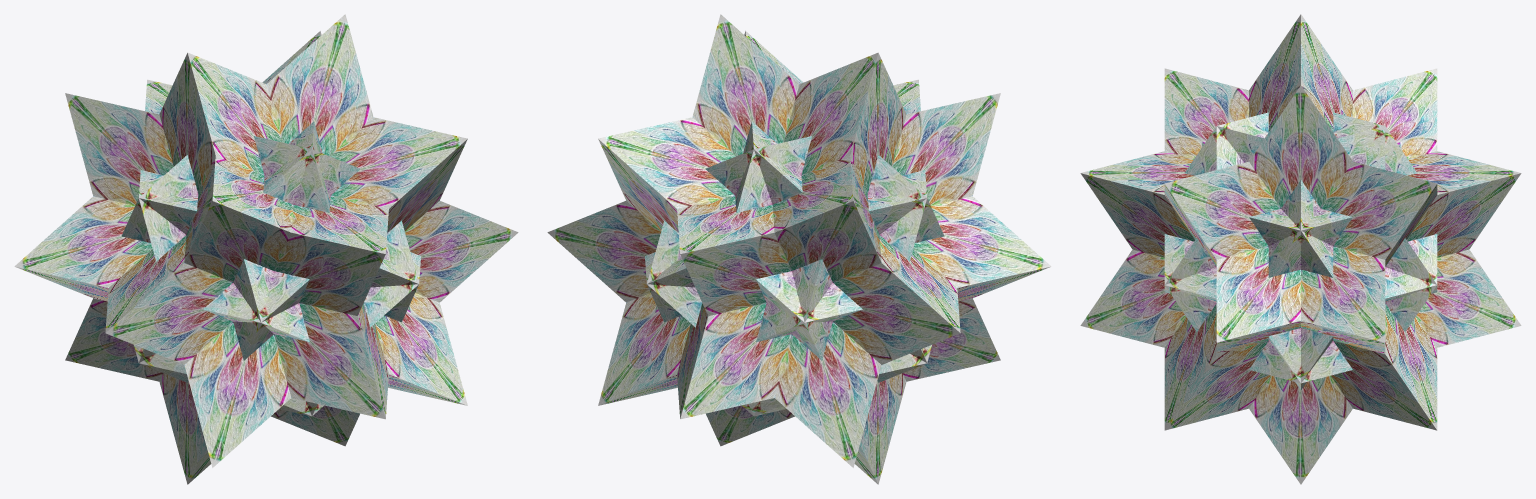
File: GreatRhombicTriacontahedron8.obj
3 views of the same model, side by side, from view 1: azimuth 30°, elevation 25°; view 2: azimuth 150°, elevation 25°; view 3: azimuth 270°, elevation 25° (orthographic). The views are drawn at different scales.
Bounding box in the file's own units: 1.12 × 1.12 × 1.12.
1 material, 1 textured.
